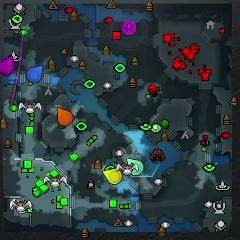Other: (122, 21, 137, 35)
p1: (27, 65, 44, 83)
p2: (128, 158, 144, 176)
p3: (0, 56, 15, 76)
p4: (105, 168, 123, 184)
p5: (56, 108, 73, 124)
